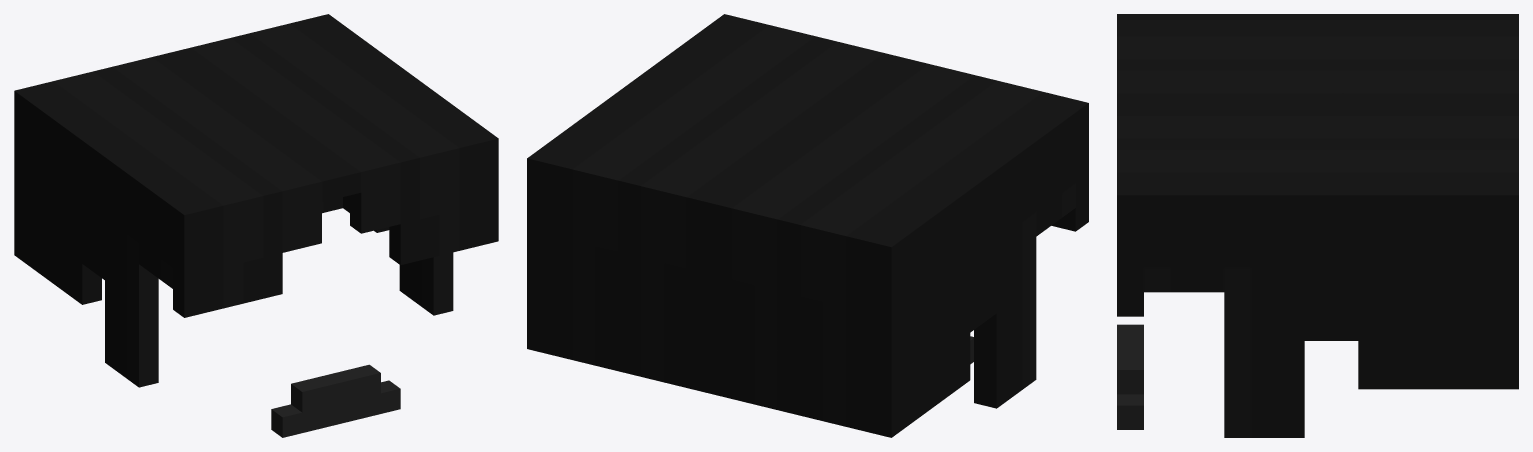
File: Hair031.fbx
3 renders of one model, left to right at view 1: azimuth 30°, elevation 25°; view 2: azimuth 150°, elevation 25°; view 3: azimuth 270°, elevation 25°, orthographic. The views are drawn at different scales.
Visible parts, largest first — view 1: Hair031; view 2: Hair031; view 3: Hair031.
Part boxes in pixels (x1,y1,x2,y2): Hair031: (14,14,498,437); Hair031: (527,14,1088,437); Hair031: (1117,14,1518,437).
Bounding box in the file's own units: 16.23 × 12.17 × 15.22.
